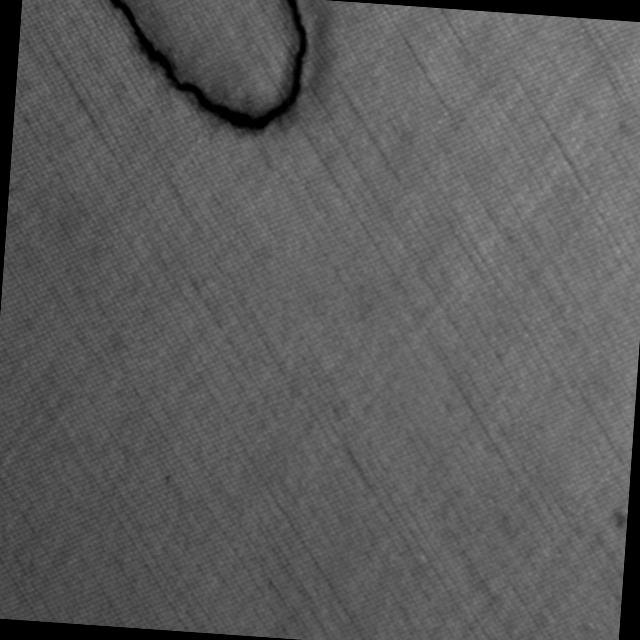objects: (91, 0, 319, 143)
